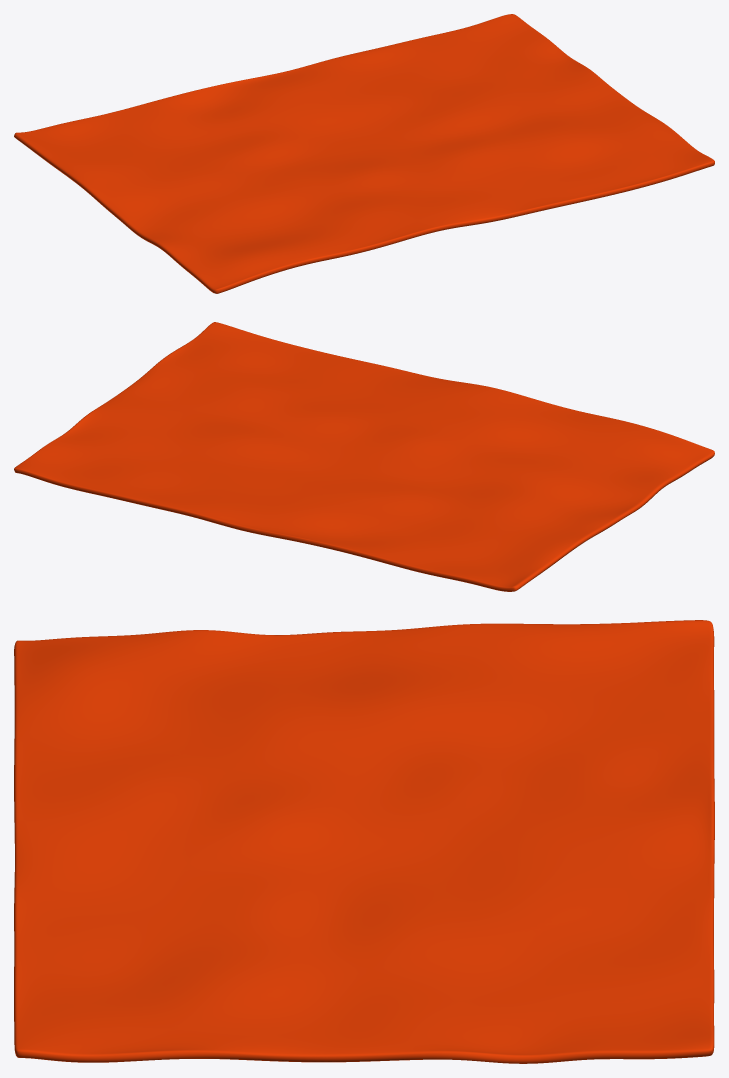
The model's file is rug.fbx.
3 renders of one model, top to bottom at view 1: azimuth 30°, elevation 25°; view 2: azimuth 150°, elevation 25°; view 3: azimuth 270°, elevation 25°, orthographic. The views are drawn at different scales.
Visible parts, largest first — view 1: Plane; view 2: Plane; view 3: Plane.
Part boxes in pixels (x1,y1,x2,y2): Plane: [14, 14, 714, 293]; Plane: [14, 322, 714, 591]; Plane: [14, 620, 714, 1063].
Bounding box in the file's own units: 231 × 6.9 × 160.
